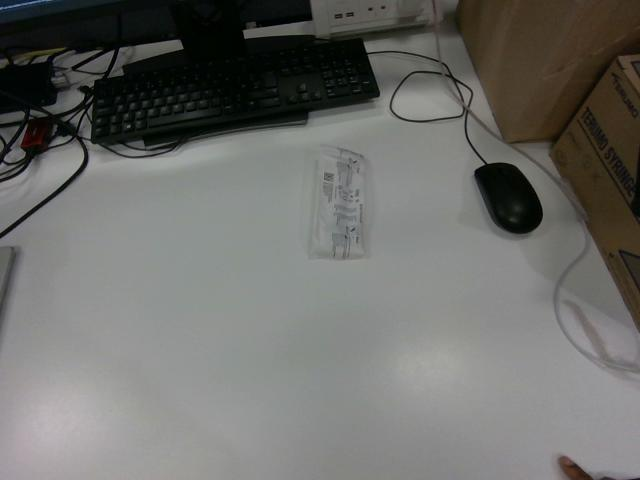syringe: (309, 146, 366, 259)
